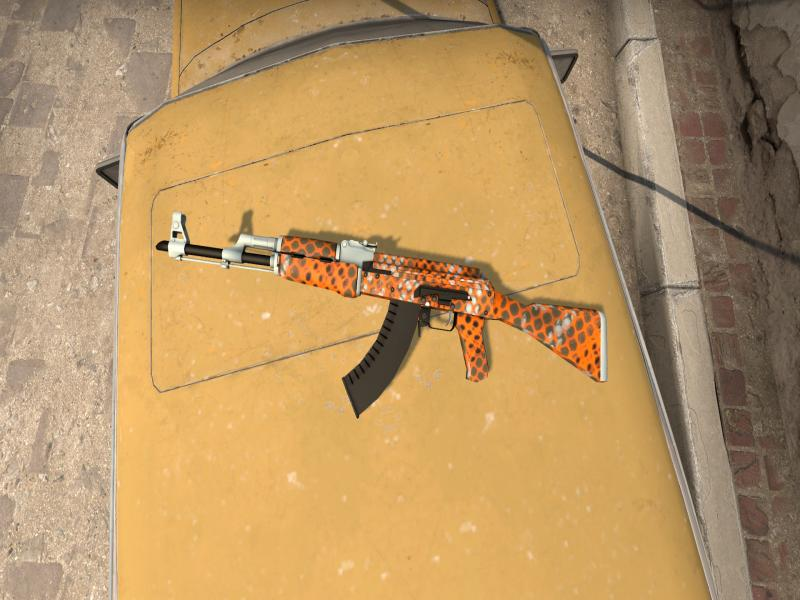AK47: (155, 211, 606, 402)
